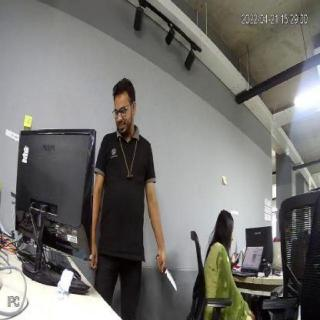knife: (158, 257, 178, 295)
